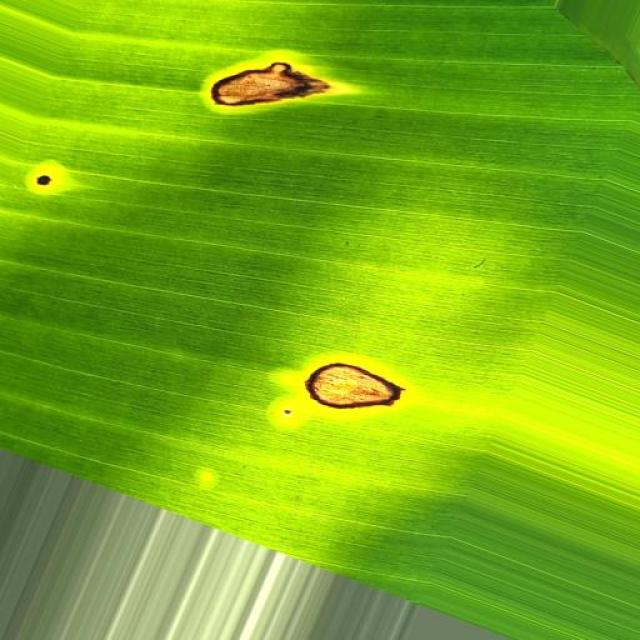Early_rust: (265, 306, 413, 453), (180, 23, 348, 131), (15, 146, 70, 212)
